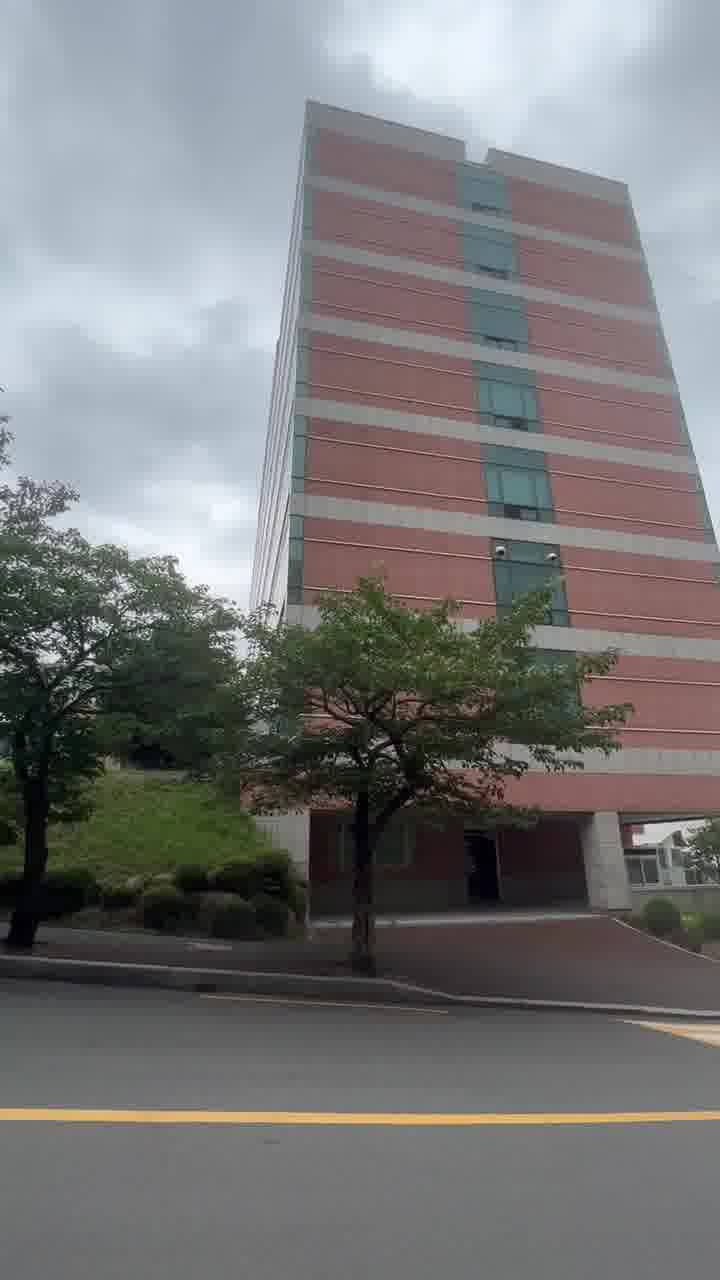low: (242, 102, 700, 614)
